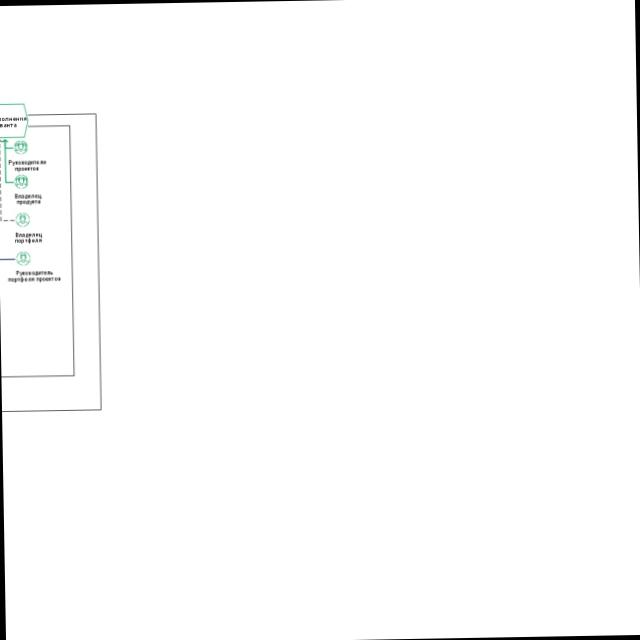text_region: (5, 268, 60, 284), (7, 156, 48, 172), (13, 230, 43, 244), (13, 192, 42, 206)
